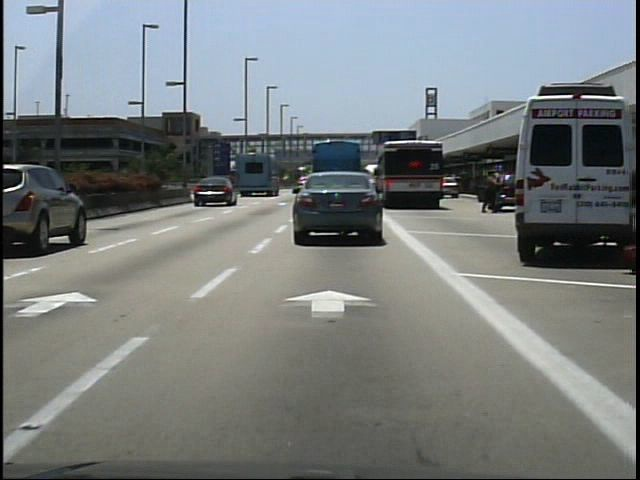person: (481, 169, 502, 220)
